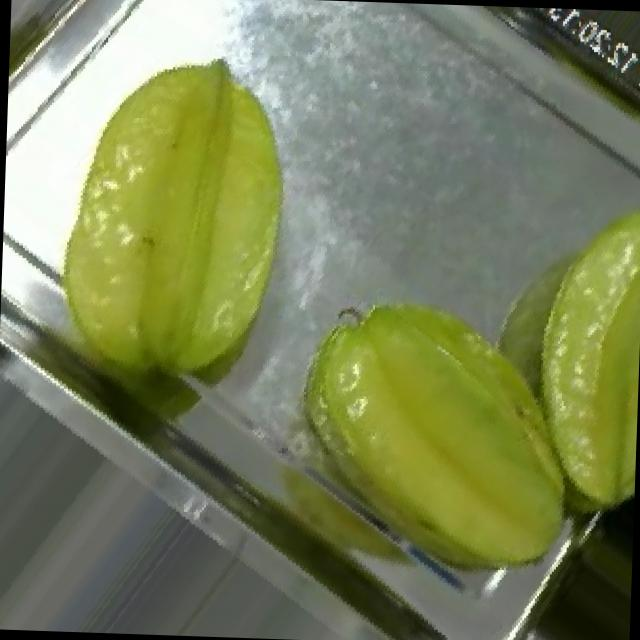fruit: (0, 0, 372, 430), (239, 243, 640, 623), (469, 147, 640, 534)
